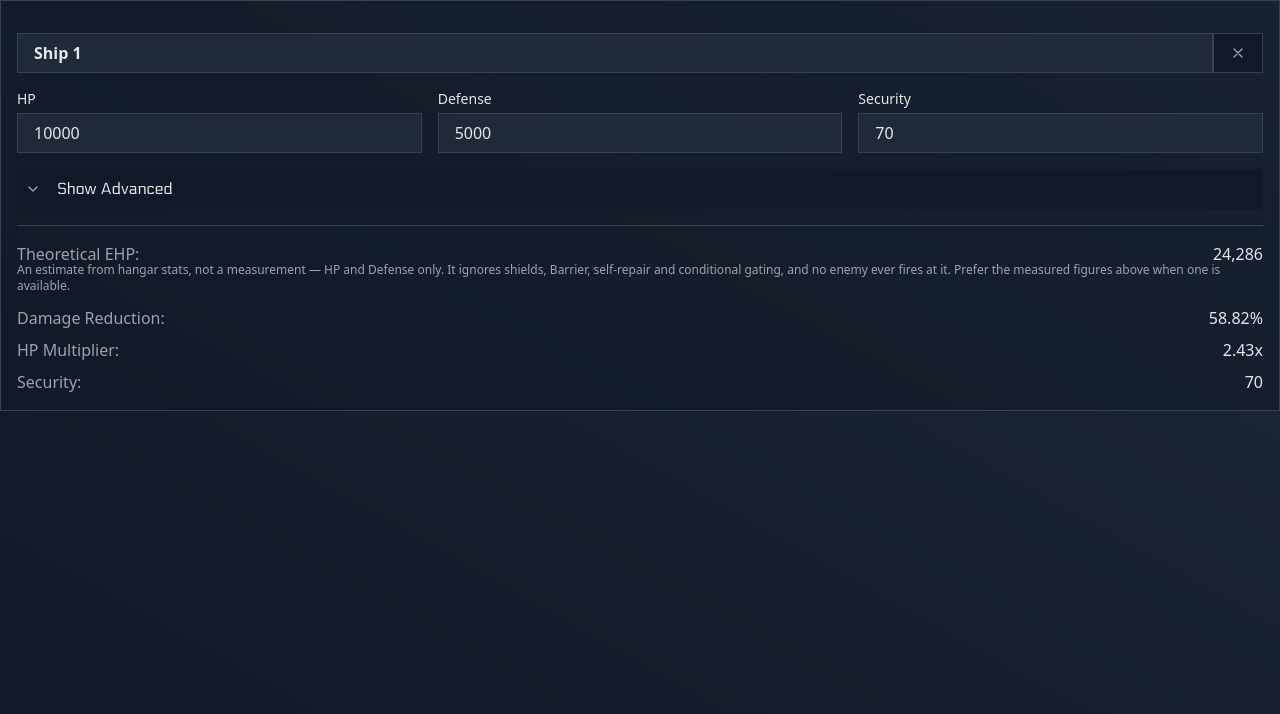
Test: DefenseShipCard › shows a Passive row for a ship with passive skill text
Click the button "Show Advanced". click: (33, 189)
box: [17,169,1263,209]
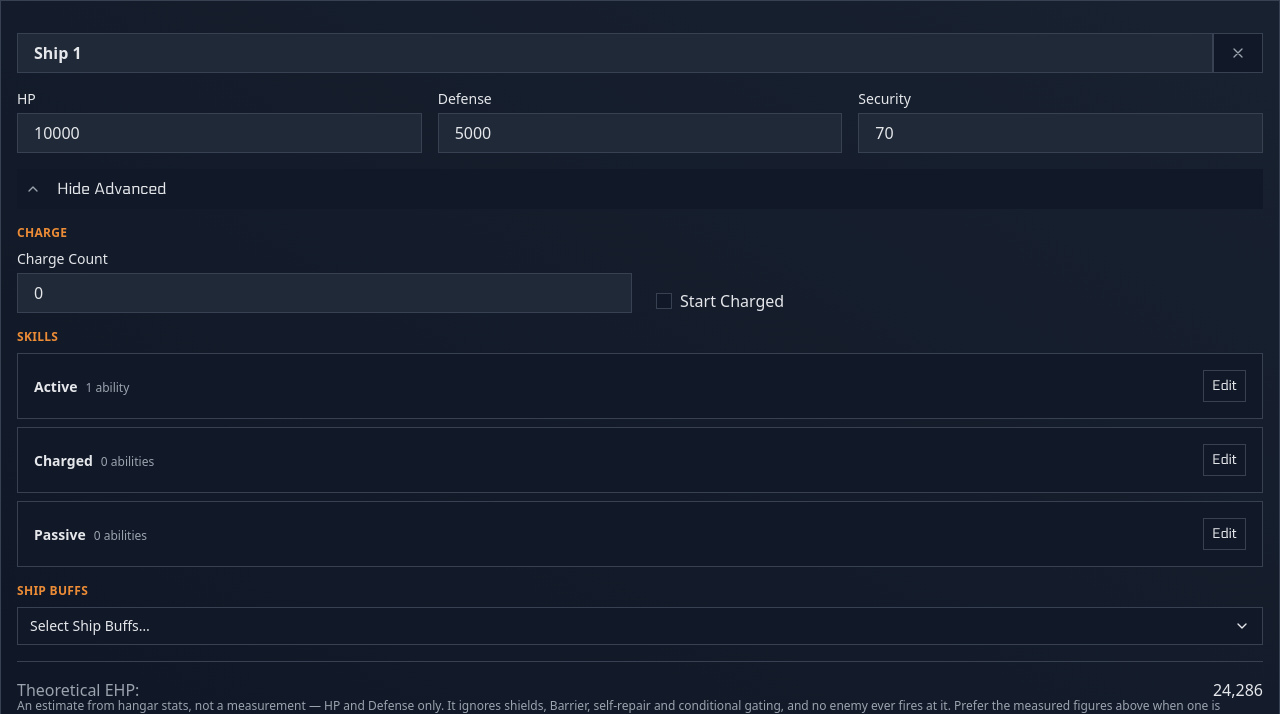
Expected: the text "Passive" is shown, [34,525,86,544]
